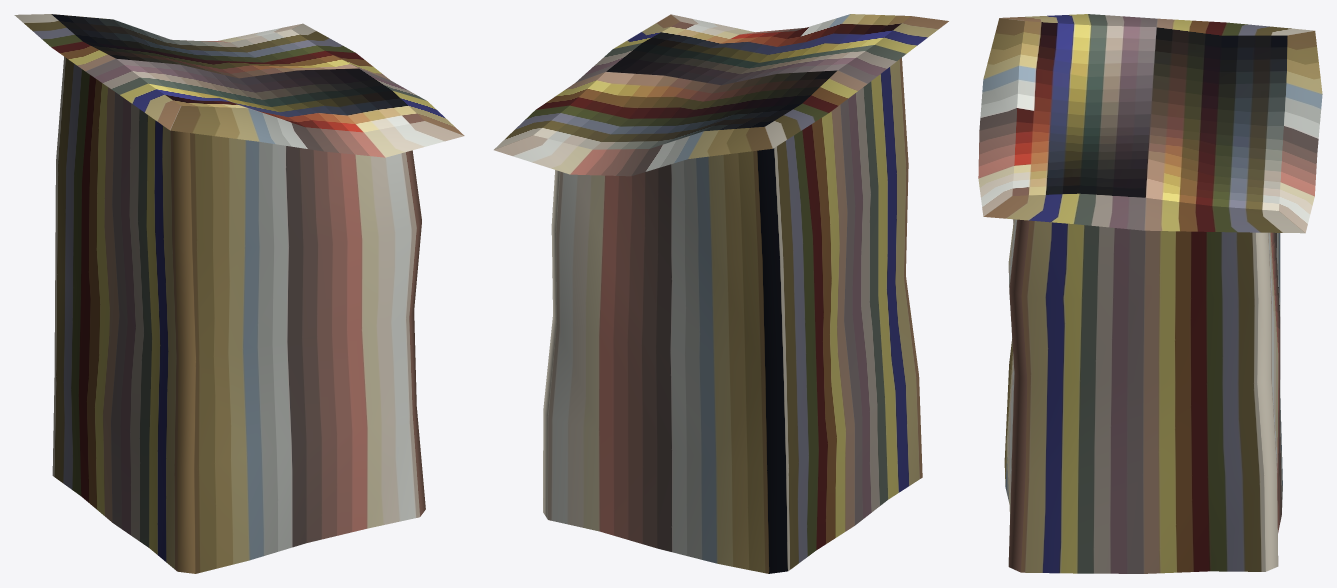
File: MSH_Building_014.glb
The picture shows the model from 3 angles, left to right: view 1: azimuth 30°, elevation 25°; view 2: azimuth 150°, elevation 25°; view 3: azimuth 270°, elevation 25°; orthographic projection. The views are drawn at different scales.
Parts seen in each view (by area): view 1: Base.006; view 2: Base.006; view 3: Base.006.
Part boxes in pixels (<box>): Base.006: <box>14,14,464,573</box>; Base.006: <box>494,14,948,573</box>; Base.006: <box>978,14,1322,573</box>.
Bounding box in the file's own units: 6.27 × 9.11 × 6.47.
Materials: 1 (1 with a texture image).
